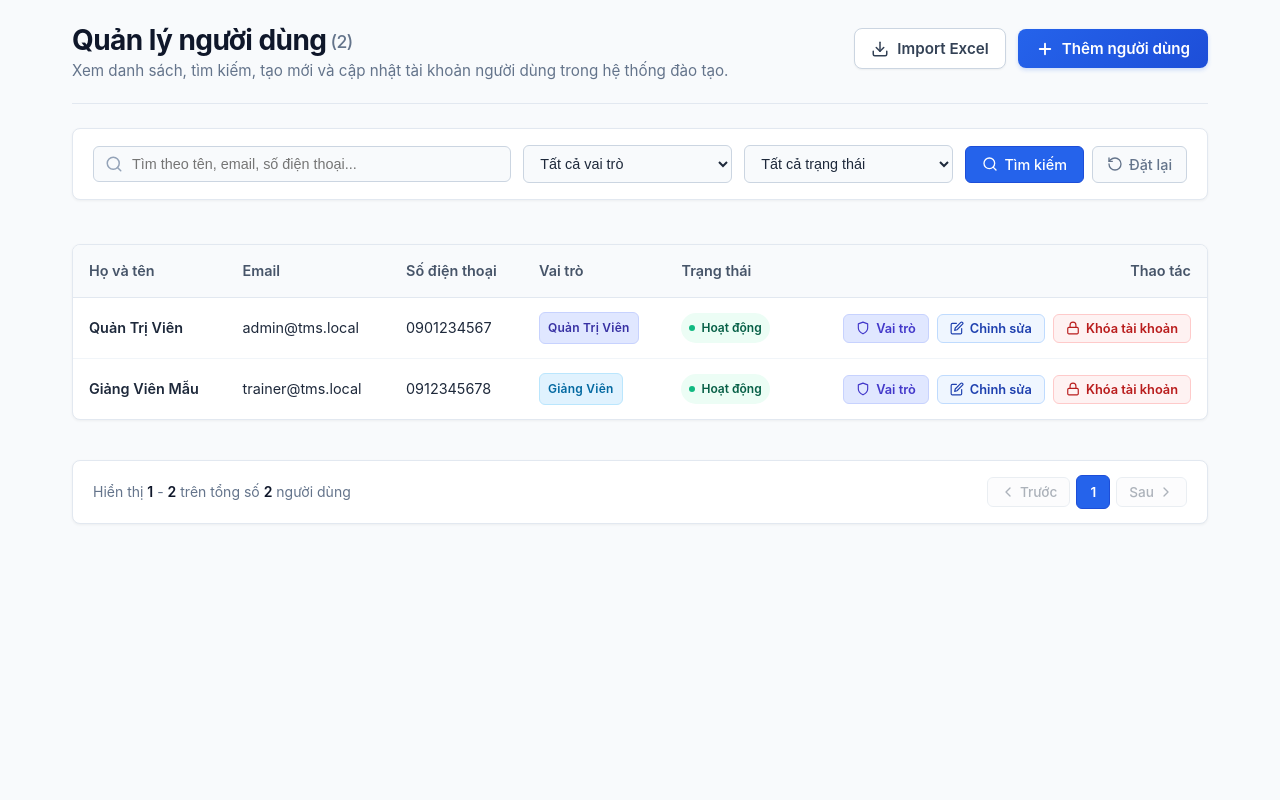
Test: SCRUM-102: Frontend Overall User Role Management Matrix › 18. danh mục vai trò hợp lệ được tải từ API và hiển thị trong danh sách lựa chọn
The width and height of the screenshot is (1280, 800).
What coordinates should you click on to do the following:
click the button with test id "btn-manage-role-2"
I would click on:
 (886, 389)
Its box is [843,375,929,404].
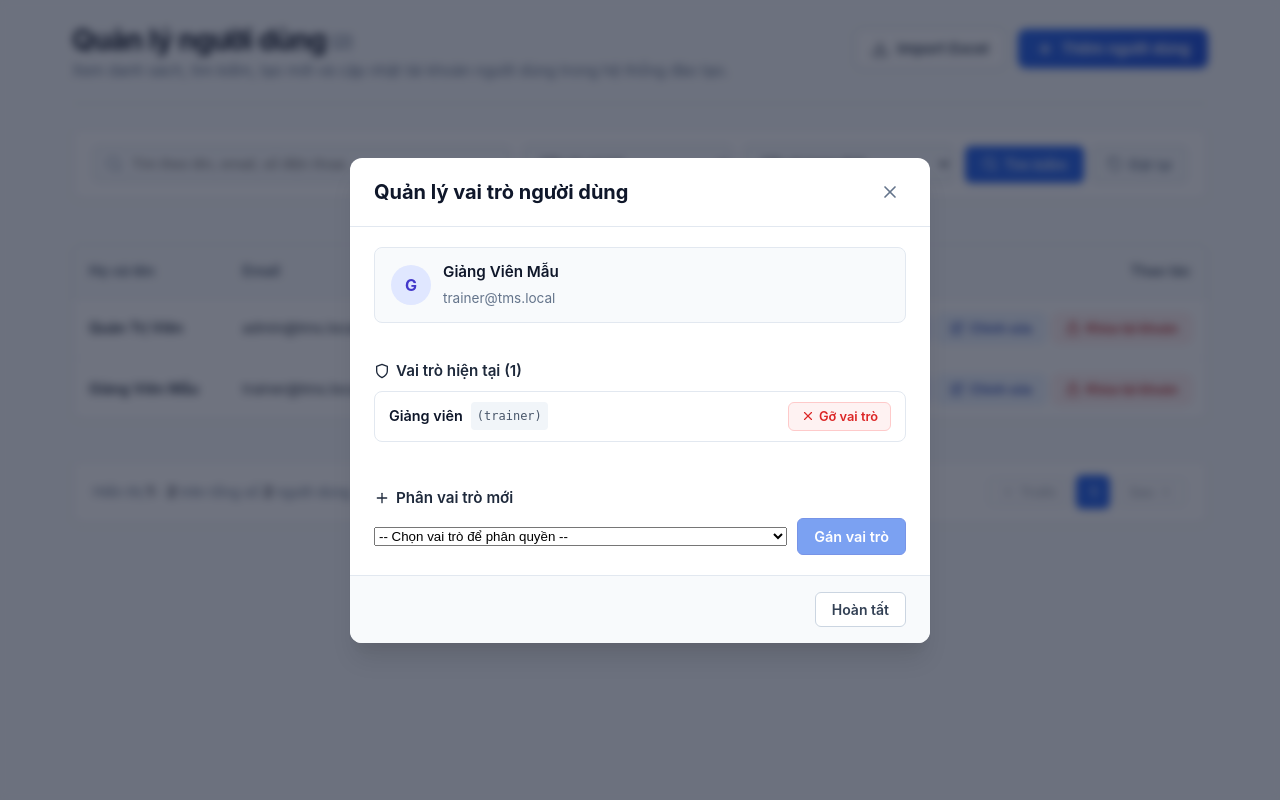
Result: the dropdown with test id "select-assign-role" is shown at [374,526,787,546]
